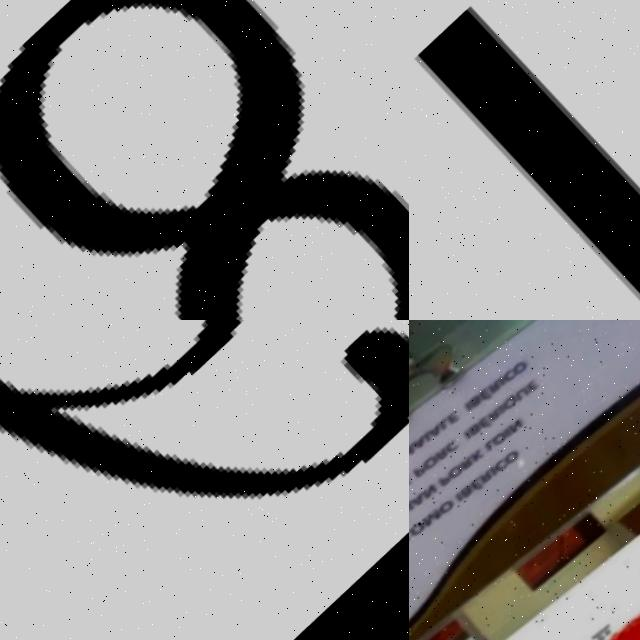6: (0, 320, 409, 640)
8: (0, 0, 409, 320)
T: (409, 0, 640, 320)
